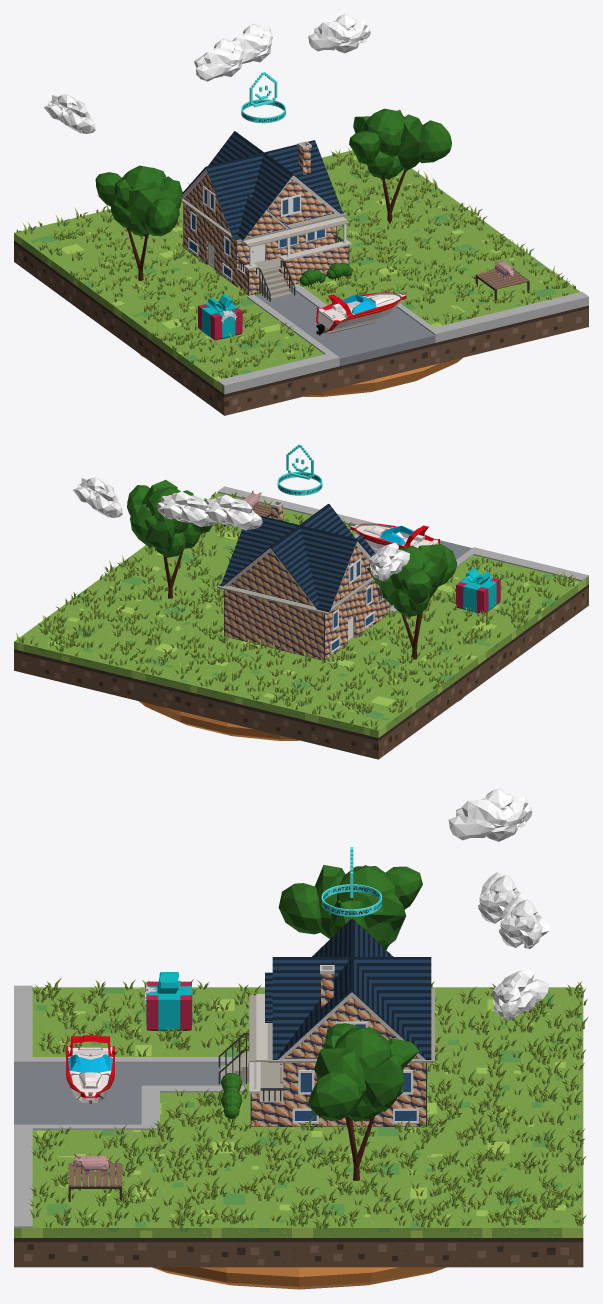
The picture shows the model from 3 angles, top to bottom: view 1: azimuth 30°, elevation 25°; view 2: azimuth 150°, elevation 25°; view 3: azimuth 270°, elevation 25°; orthographic projection. The views are drawn at different scales.
Visible parts, largest first — view 1: Cube.006, Cube.430, Circle.012_Grass_0.192, Cube.007, tree, tree.001, VEHICLES_BOAT, OBJRANDOM_GIANT_PRESENT, UNDERGROUND_PIZZA, TYPE_PREMIUM, Cube.009; view 2: Cube.006, Cube.430, Circle.012_Grass_0.192, Cube.007, tree.001, tree, OBJRANDOM_GIANT_PRESENT, VEHICLES_BOAT, UNDERGROUND_PIZZA, TYPE_PREMIUM; view 3: Cube.006, Circle.012_Grass_0.192, Cube.430, tree, Cube.007, tree.001, UNDERGROUND_PIZZA, VEHICLES_BOAT, OBJRANDOM_GIANT_PRESENT, TYPE_PREMIUM, Cube.009.
Boxes of the visible parts, bbox=[...] form: Cube.006: bbox=[14, 150, 588, 415]; Cube.430: bbox=[181, 131, 351, 301]; Circle.012_Grass_0.192: bbox=[16, 148, 575, 378]; Cube.007: bbox=[44, 14, 370, 133]; tree: bbox=[349, 108, 451, 223]; tree.001: bbox=[95, 165, 182, 280]; VEHICLES_BOAT: bbox=[316, 292, 406, 335]; OBJRANDOM_GIANT_PRESENT: bbox=[198, 294, 242, 340]; UNDERGROUND_PIZZA: bbox=[139, 353, 462, 396]; TYPE_PREMIUM: bbox=[241, 72, 285, 123]; Cube.009: bbox=[475, 269, 529, 300]; Cube.006: bbox=[14, 486, 588, 759]; Cube.430: bbox=[217, 500, 389, 660]; Circle.012_Grass_0.192: bbox=[16, 491, 575, 729]; Cube.007: bbox=[73, 477, 409, 581]; tree.001: bbox=[367, 544, 457, 659]; tree: bbox=[127, 479, 212, 598]; OBJRANDOM_GIANT_PRESENT: bbox=[456, 568, 500, 613]; VEHICLES_BOAT: bbox=[350, 523, 439, 550]; UNDERGROUND_PIZZA: bbox=[139, 697, 463, 741]; TYPE_PREMIUM: bbox=[277, 444, 322, 495]; Cube.006: bbox=[14, 985, 583, 1267]; Circle.012_Grass_0.192: bbox=[29, 978, 588, 1229]; Cube.430: bbox=[218, 919, 434, 1126]; tree: bbox=[308, 1023, 419, 1180]; Cube.007: bbox=[448, 788, 549, 1020]; tree.001: bbox=[278, 865, 422, 949]; UNDERGROUND_PIZZA: bbox=[152, 1267, 446, 1289]; VEHICLES_BOAT: bbox=[66, 1035, 114, 1104]; OBJRANDOM_GIANT_PRESENT: bbox=[144, 972, 192, 1031]; TYPE_PREMIUM: bbox=[321, 847, 381, 916]; Cube.009: bbox=[68, 1162, 121, 1201].
Size of the model in its own units: 4071 by 2512 by 4040.
Materials: 40 (5 with a texture image).
